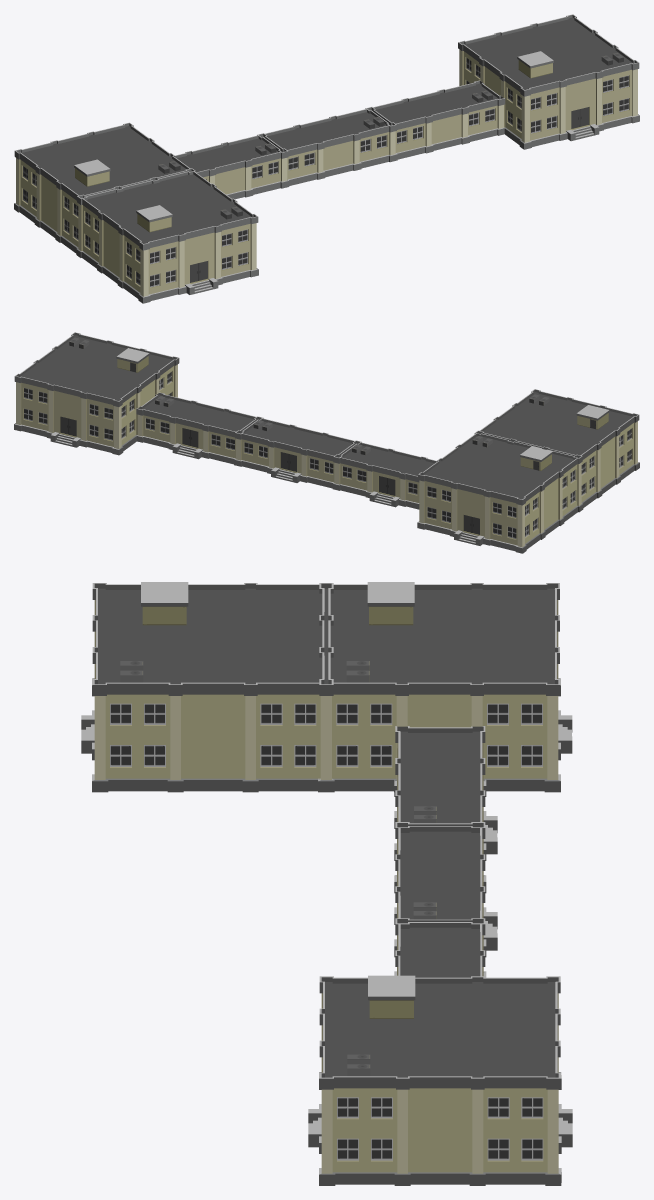
File: Wall2.fbx
The picture shows the model from 3 angles, top to bottom: view 1: azimuth 30°, elevation 25°; view 2: azimuth 150°, elevation 25°; view 3: azimuth 270°, elevation 25°; orthographic projection. The views are drawn at different scales.
Parts seen in each view (by area): view 1: Wall2; view 2: Wall2; view 3: Wall2.
Boxes of the visible parts, <box> form: Wall2: <box>14,14,639,303</box>; Wall2: <box>14,332,639,553</box>; Wall2: <box>81,582,572,1185</box>.
Bounding box in the file's own units: 116 × 13.62 × 48.52.
